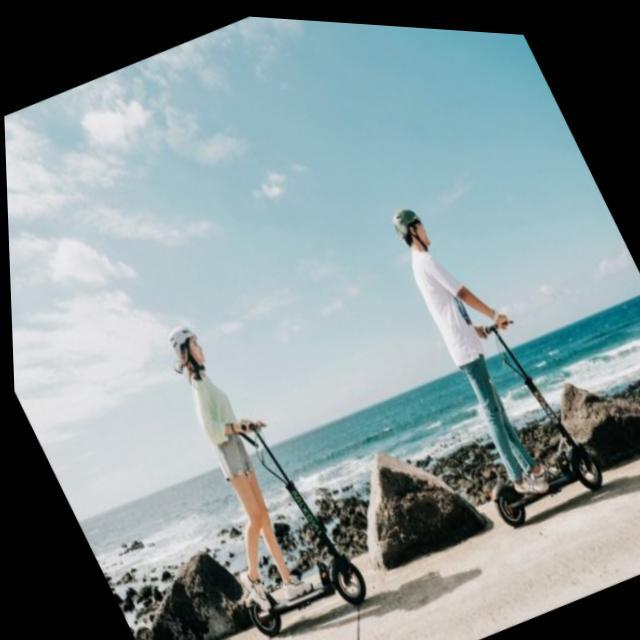Helmet: (166, 320, 211, 379), (389, 202, 436, 257)
